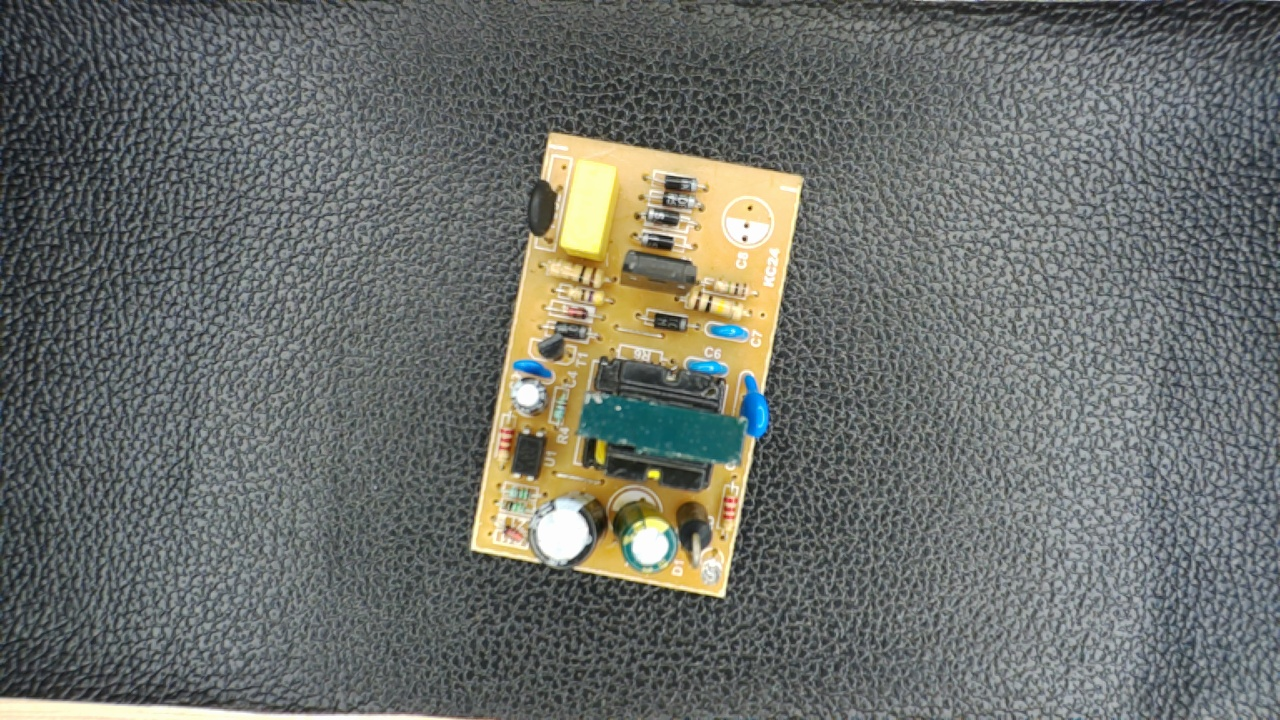fuse: (522, 174, 560, 243)
mov: (732, 365, 773, 443)
optocoupler: (509, 422, 554, 485)
